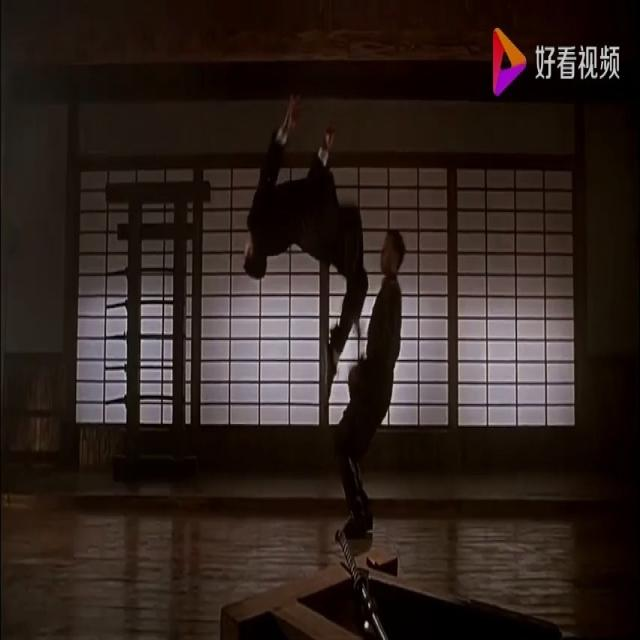fight: (242, 100, 403, 532)
